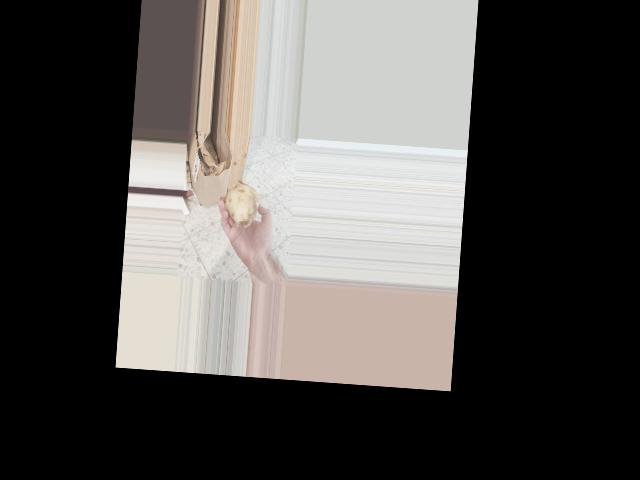onion: (219, 179, 263, 231)
